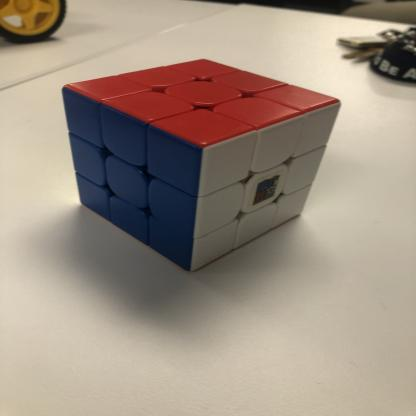SolvedCube: (52, 51, 352, 280)
